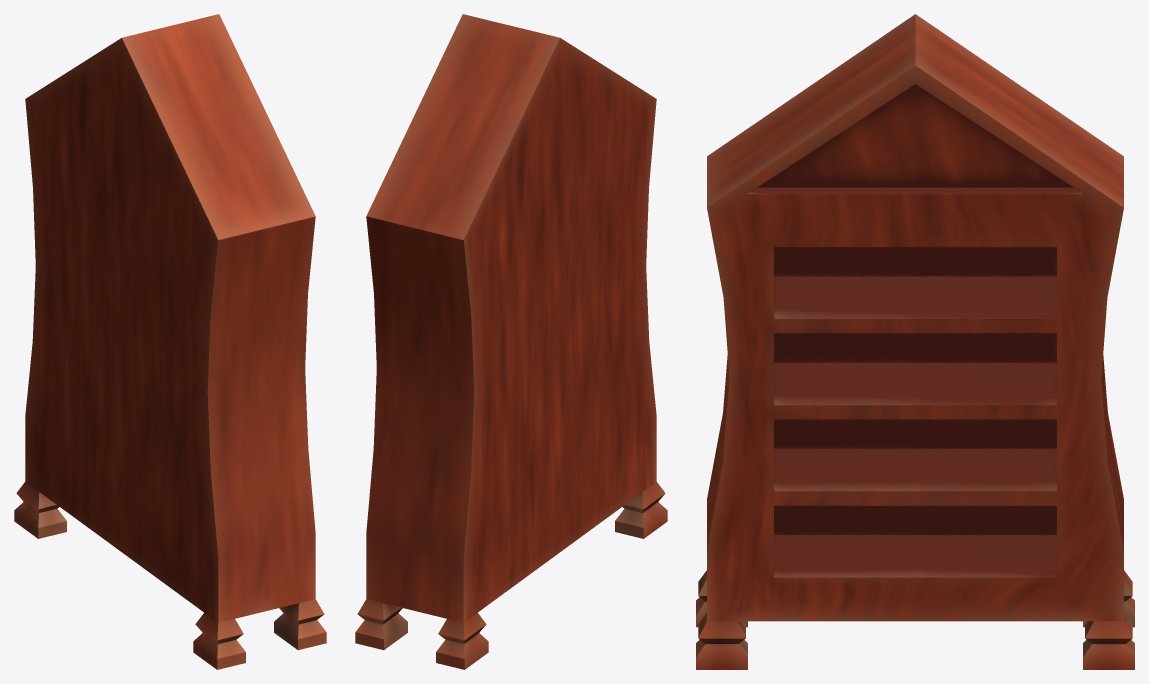
The model's file is big_shelf_2.fbx.
3 views of the same model, side by side, from view 1: azimuth 30°, elevation 25°; view 2: azimuth 150°, elevation 25°; view 3: azimuth 270°, elevation 25° (orthographic). The views are drawn at different scales.
Visible parts, largest first — view 1: big_shelf; view 2: big_shelf; view 3: big_shelf.
Boxes of the visible parts, x1,y1,x2,y2 form: big_shelf: (14, 14, 326, 669); big_shelf: (355, 14, 667, 669); big_shelf: (696, 14, 1134, 669).
Bounding box in the file's own units: 325 × 1576 × 1042.
